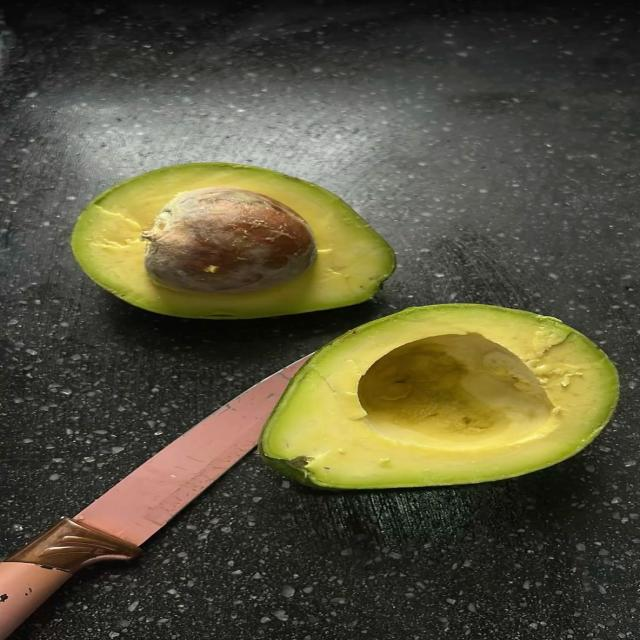avocado: (260, 304, 618, 488), (73, 163, 394, 318)
